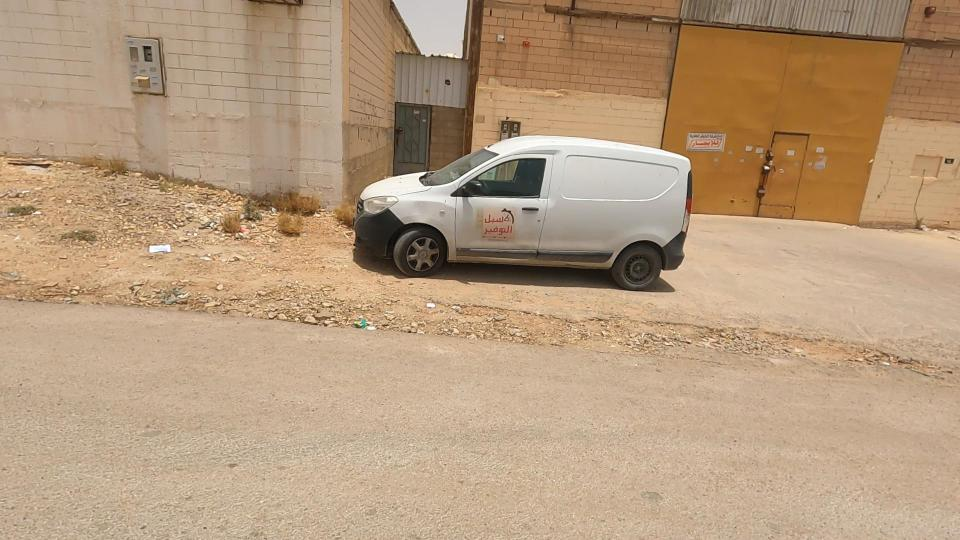GARBAGE: (93, 207, 226, 289), (303, 276, 421, 365)
